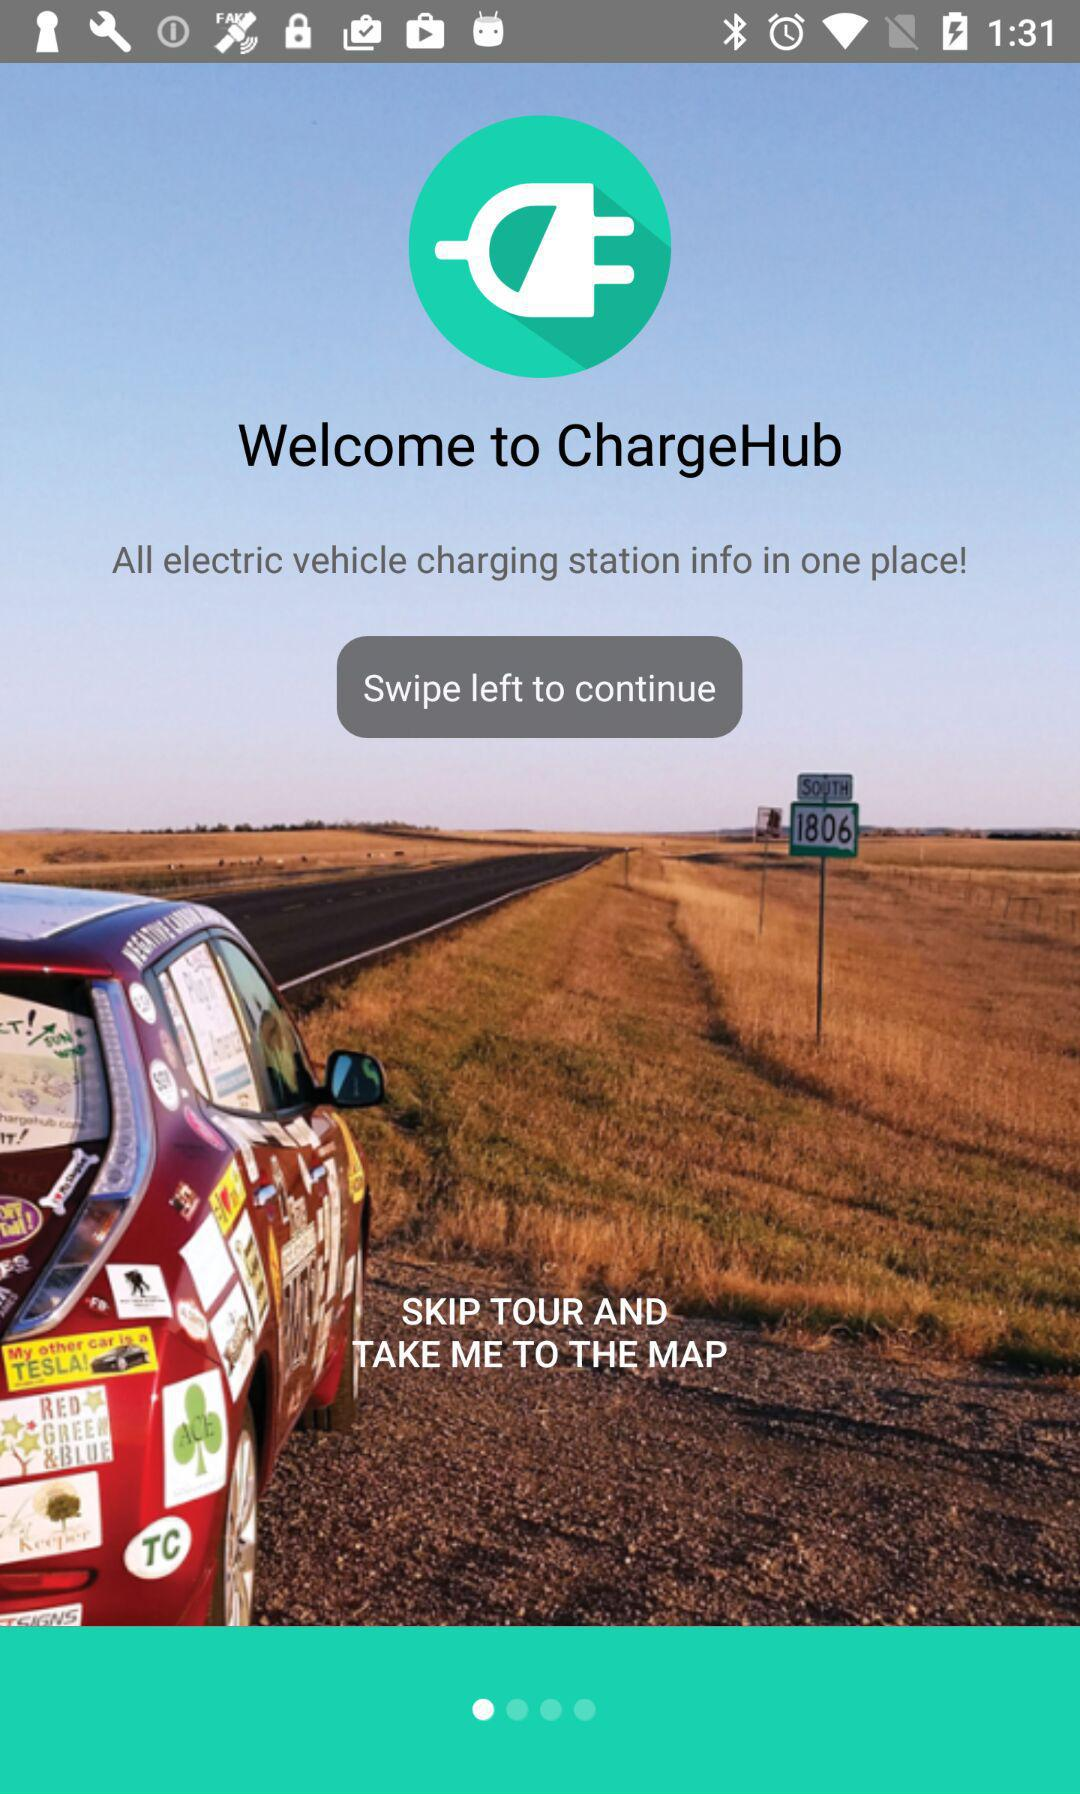BackgroundImage: (1, 64, 1080, 1626)
Image: (407, 115, 671, 378)
PageIndicator: (471, 1697, 600, 1724)
Text: (237, 419, 840, 481), (110, 542, 967, 583), (350, 1296, 728, 1369)
TextButton: (334, 636, 743, 738)
UpperTaskBar: (1, 1, 1080, 64)
